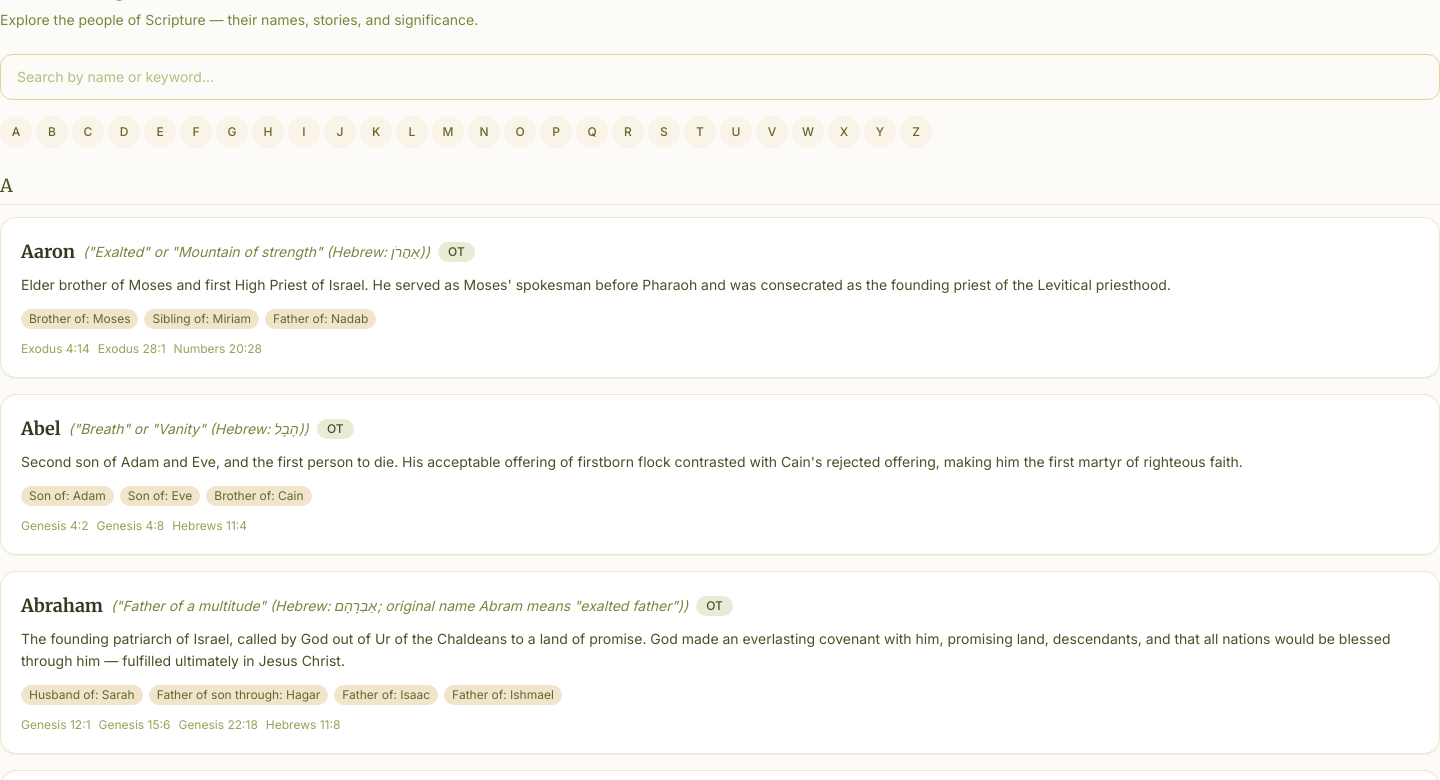
it: GlossaryPage › clears letter filter when clicking active letter again
What coordinates should you click on to do the following:
click the button "A"
I would click on:
 (16, 132)
Its box is [0,116,32,148].
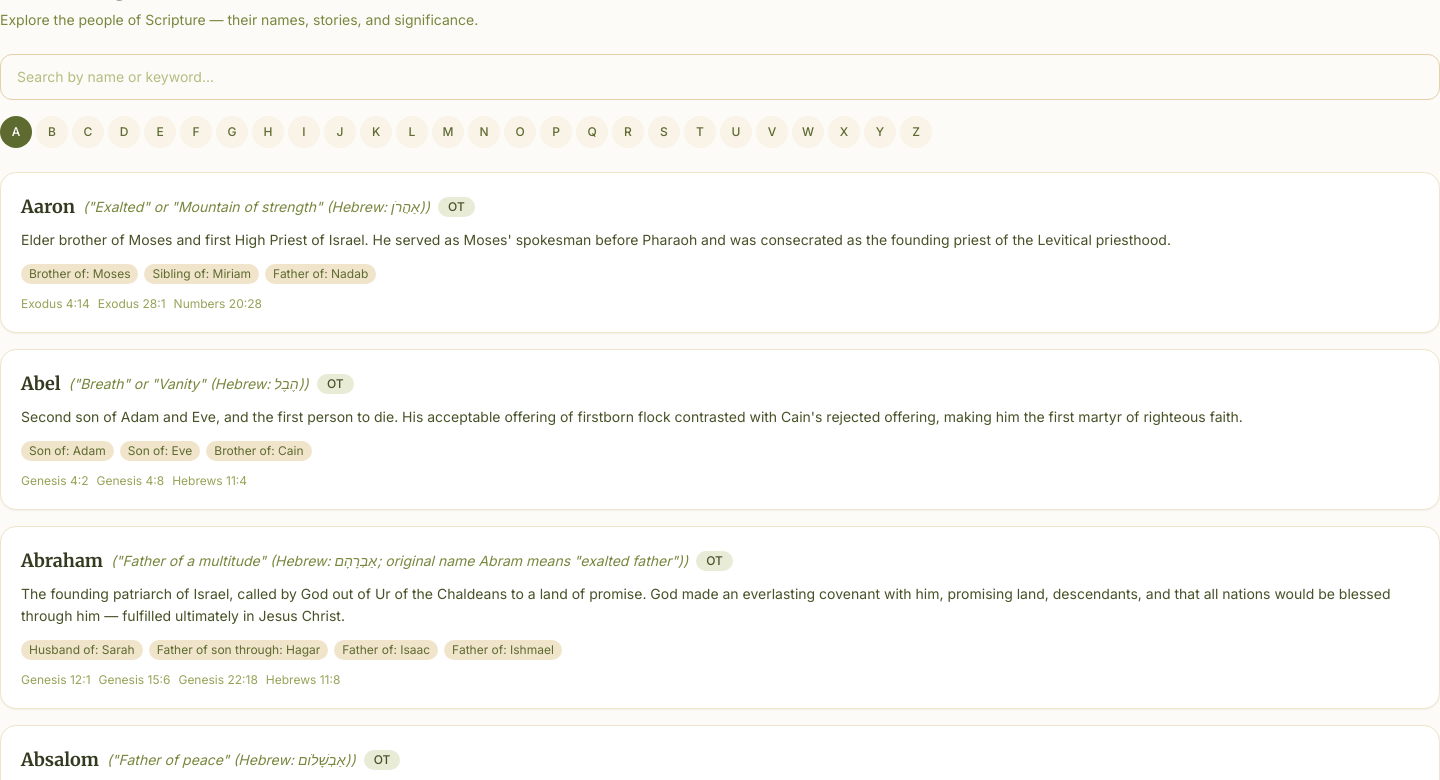
What coordinates should you click on to do the following:
click the button "A"
I would click on:
 (16, 132)
Its box is [0,116,32,148].
(page scrolled)
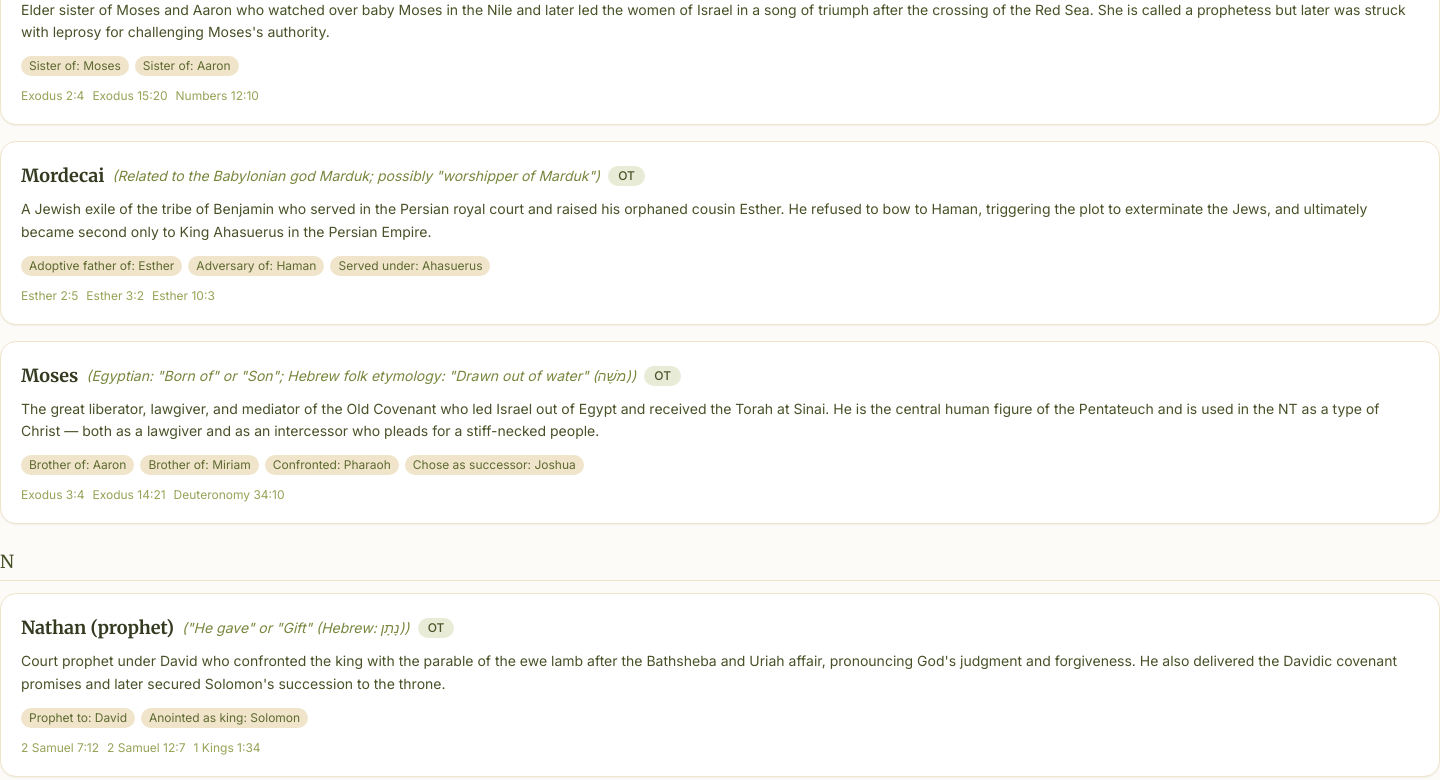
Expected: the heading "Moses" is shown, [21,362,78,390]
